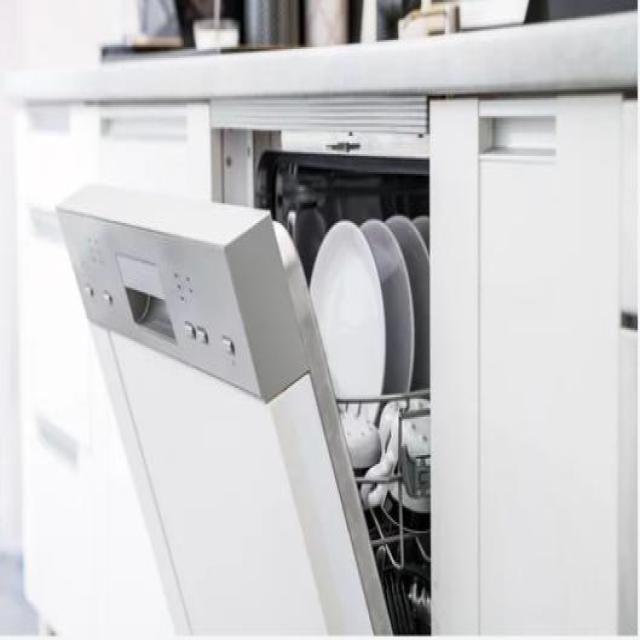dishwasher: (51, 96, 435, 636)
